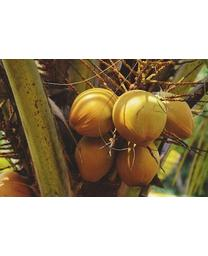coconut: (113, 90, 166, 144), (148, 86, 194, 142), (67, 87, 116, 138), (115, 138, 160, 189), (74, 135, 115, 182)
